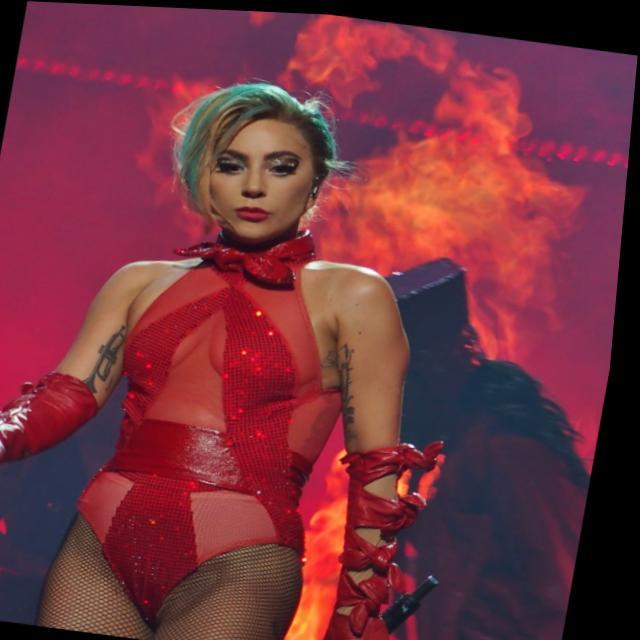Nonhelmet: (168, 78, 350, 245)
